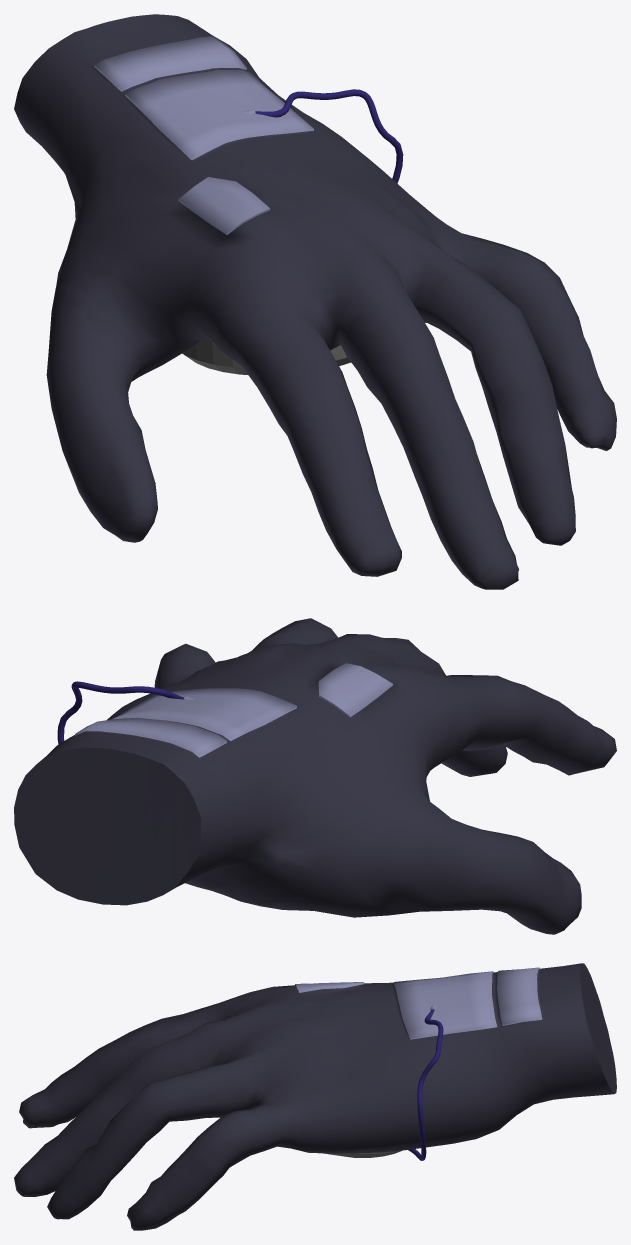
Rendered from PolarisLeftHand.fbx.
3 views of the same model, one above another, from view 1: azimuth 30°, elevation 25°; view 2: azimuth 150°, elevation 25°; view 3: azimuth 270°, elevation 25° (orthographic). The views are drawn at different scales.
Visible parts, largest first — view 1: LeftHand, BézierCurve, Cylinder; view 2: LeftHand, BézierCurve; view 3: LeftHand, BézierCurve.
Boxes of the visible parts, <box> form: LeftHand: <box>14,14,616,589</box>; BézierCurve: <box>255,89,403,183</box>; Cylinder: <box>182,339,350,374</box>; LeftHand: <box>14,618,616,934</box>; BézierCurve: <box>57,681,183,744</box>; LeftHand: <box>14,963,616,1230</box>; BézierCurve: <box>408,1009,443,1160</box>.
Size of the model in its own units: 1247 by 786 by 1952.
